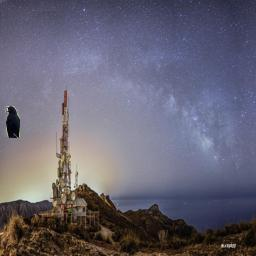Crow: (4, 106, 20, 138)
